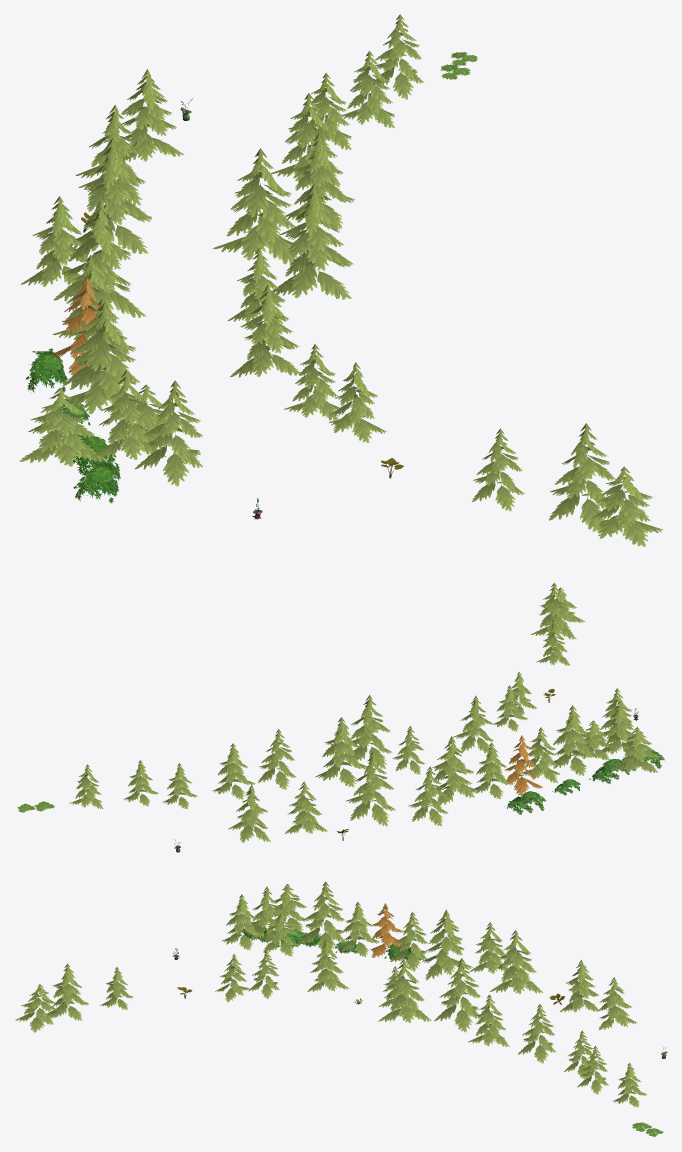
Rendered from zhibei10_1.fbx.
3 views of the same model, one above another, from view 1: azimuth 30°, elevation 25°; view 2: azimuth 150°, elevation 25°; view 3: azimuth 270°, elevation 25° (orthographic). The views are drawn at different scales.
Visible parts, largest first — view 1: zhibei10_1; view 2: zhibei10_1; view 3: zhibei10_1.
Part boxes in pixels (box(x1,y1,x2,y2)): zhibei10_1: box(19, 14, 663, 546); zhibei10_1: box(17, 582, 664, 852); zhibei10_1: box(15, 881, 667, 1136).
Size of the model in its own units: 5331 by 877 by 6758.
